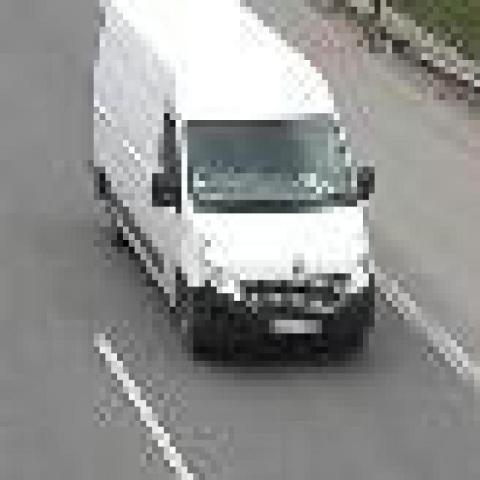van: (94, 0, 375, 353)
